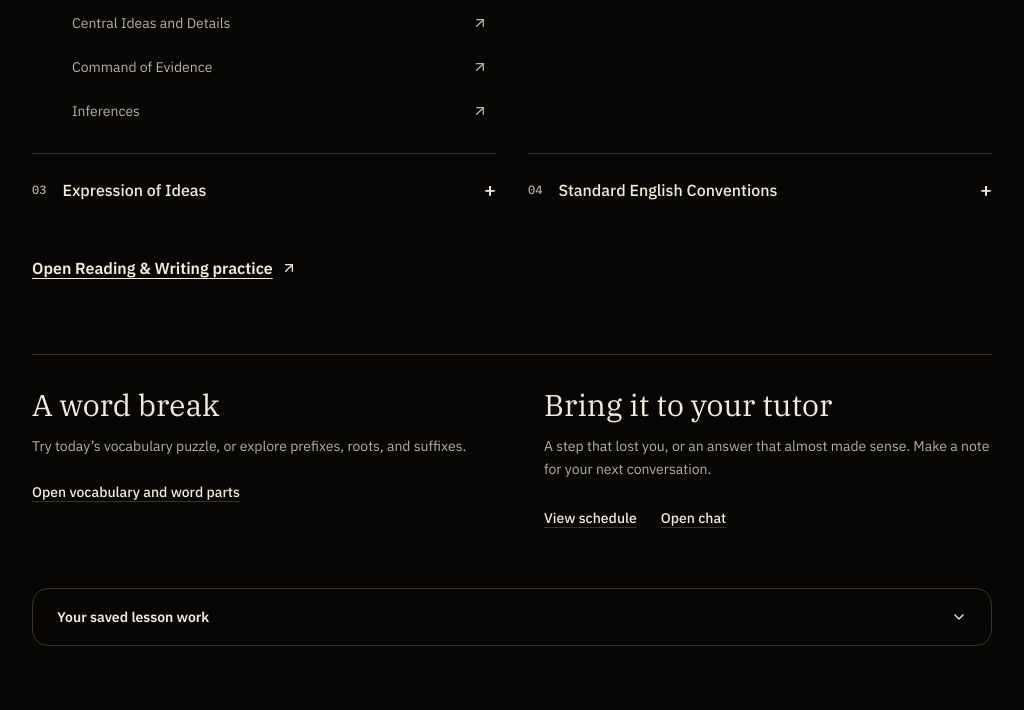
Test: learn dashboard navigation › keeps earlier lesson evidence in an expandable, clearly labeled detail
(page scrolled)
Click the heading "Your saved lesson work". click: (133, 617)
box: top-left (57, 608), bottom-right (967, 626)
(page scrolled)
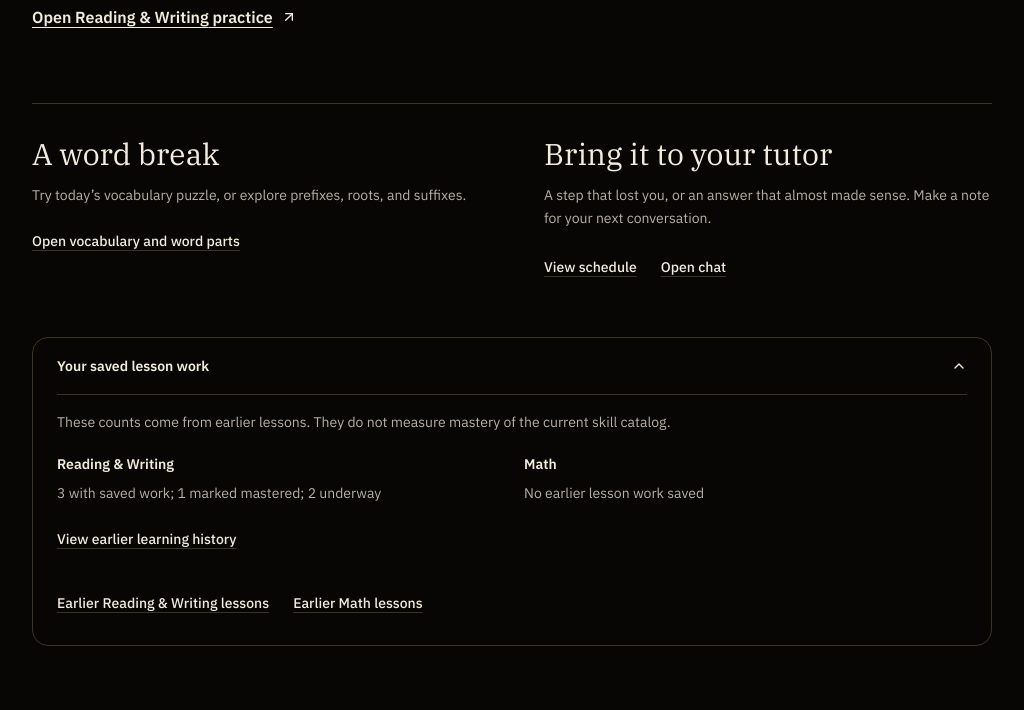
Expected: the text "3 with saved work; 1 marked mastered; 2 underway" is shown, top-left (57, 484), bottom-right (381, 502)
Expected: the text "do not measure mastery of the current skill catalog" is shown, top-left (57, 413), bottom-right (670, 431)
